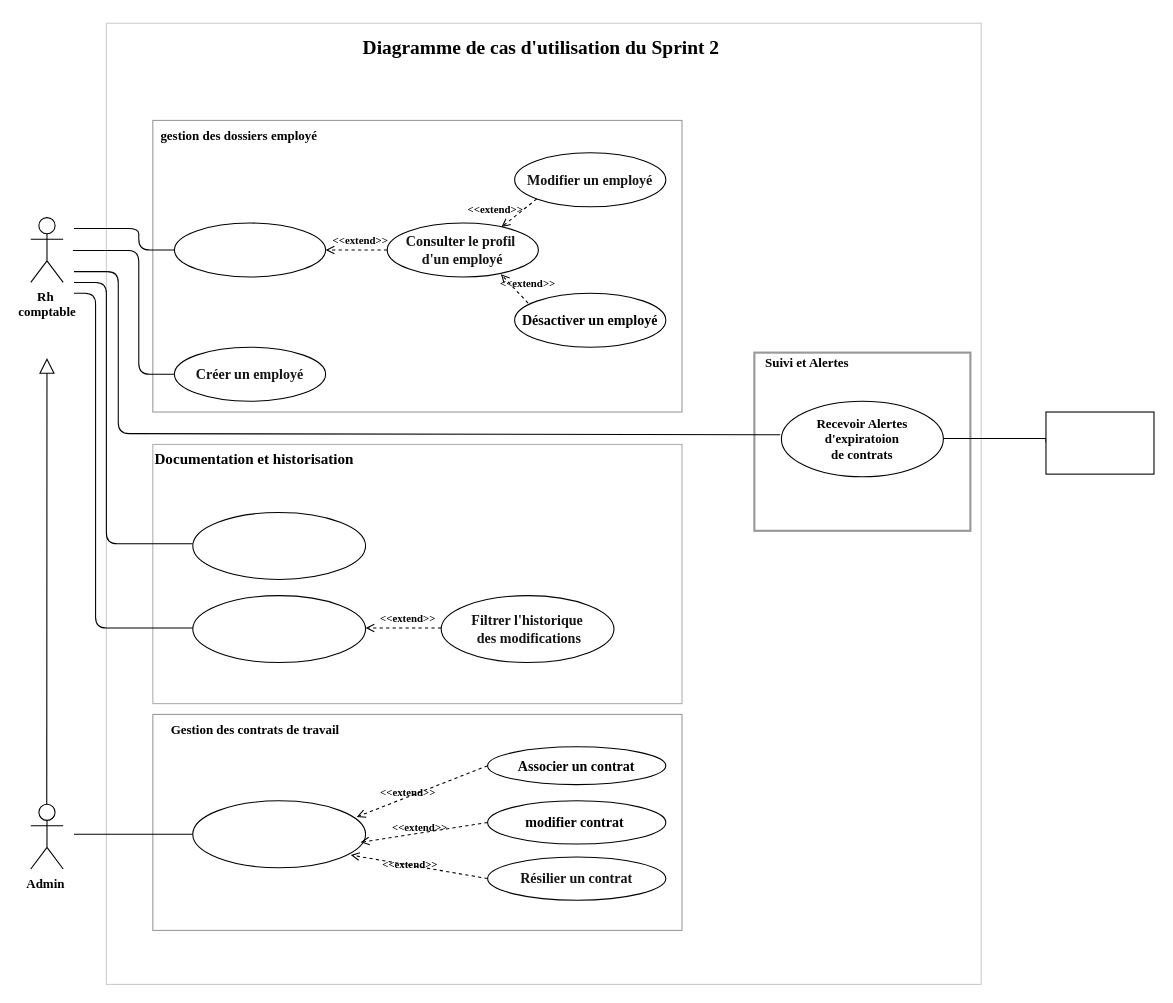
The diagram is 1173 pixels wide and 1003 high, and some of its shapes have lost their labels. Here are the shapes that lost their labels. From the top down, the centre of each, then its label:
[249,249]: Consulter la liste des employés
[1099,442]: <<system>> système d'alerts
[279,545]: Uploader un document
[279,629]: Consulter l'historique des modifications
[279,834]: Consulter liste des contacts de travail
